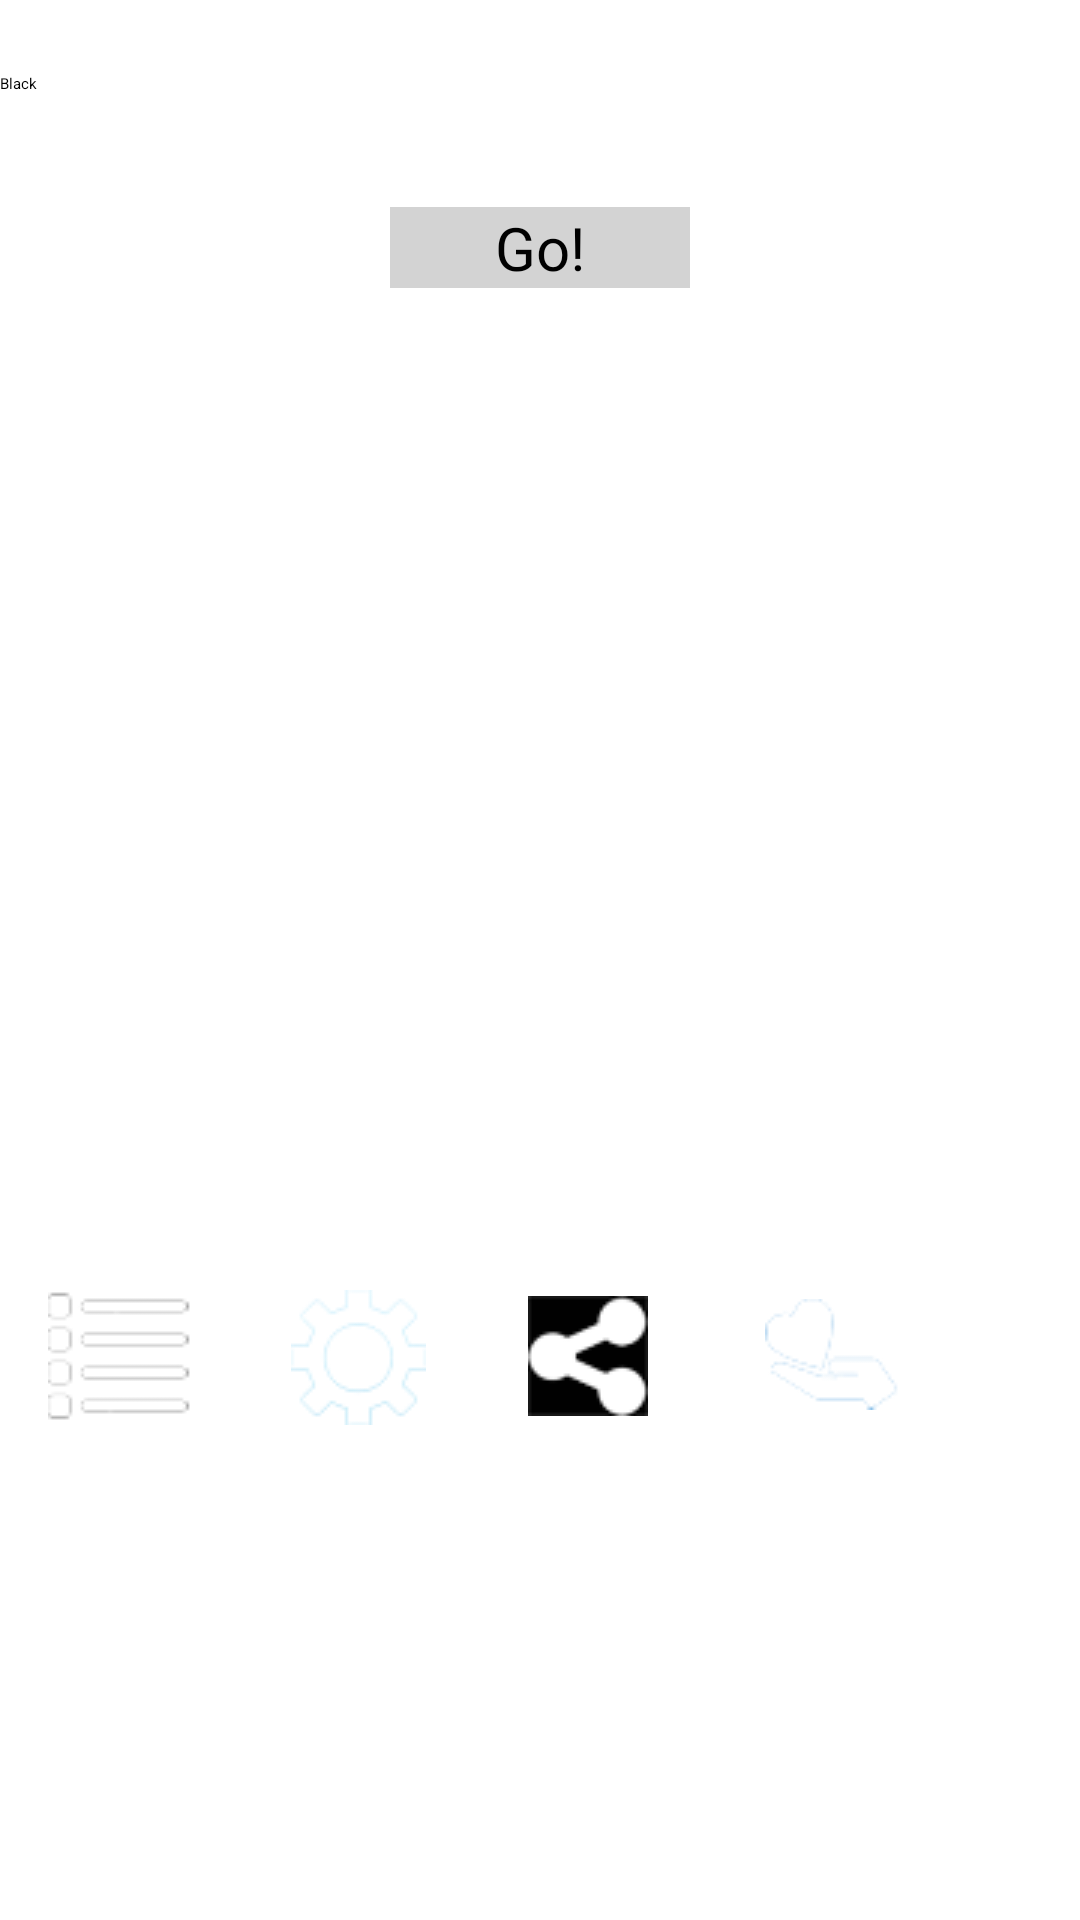

Where icons sit on this 1080px×1920px app screen, as (x1, y1, x2, y2):
donate: (765, 1299, 896, 1410)
list mini: (48, 1292, 190, 1420)
setting: (291, 1290, 426, 1425)
share: (528, 1296, 648, 1416)
